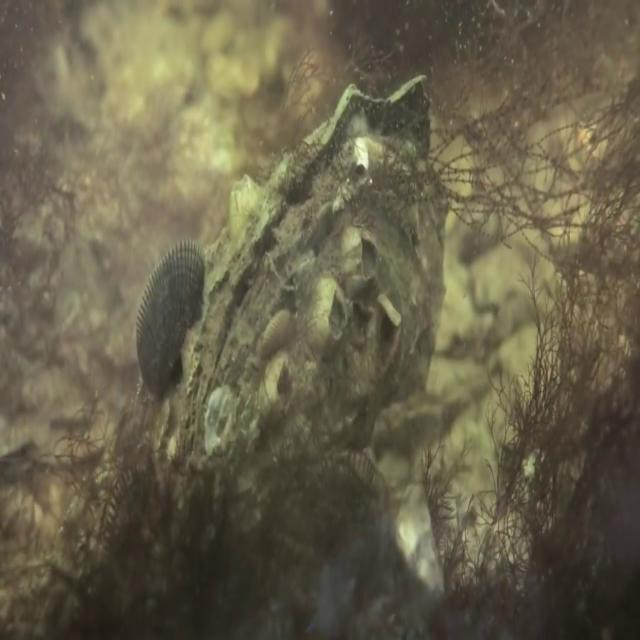Oyster-Closed: (166, 68, 451, 511)
